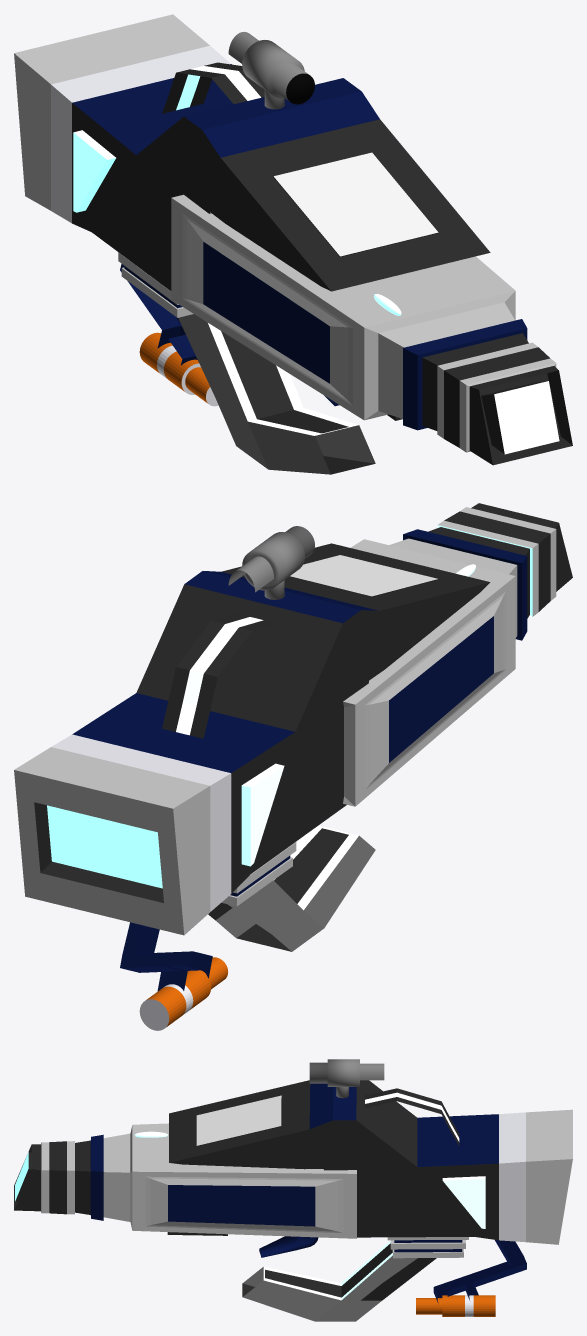
Rendered from gun.gltf.
3 renders of one model, top to bottom at view 1: azimuth 30°, elevation 25°; view 2: azimuth 150°, elevation 25°; view 3: azimuth 270°, elevation 25°, orthographic. The views are drawn at different scales.
Parts seen in each view (by area): view 1: chasis, nozzle, handle, lens, handle 2, bullet, mech arm; view 2: chasis, nozzle, handle, handle 2, lens, mech arm, bullet; view 3: chasis, nozzle, handle, lens, mech arm, bullet, handle 2, trigger.
Boxes of the visible parts, x1,y1,x2,y2 form: chasis: (14,14,490,317); nozzle: (171,194,572,465); handle: (178,314,375,474); lens: (228,31,314,109); handle 2: (162,62,264,113); bullet: (139,332,218,406); mech arm: (120,264,197,365); chasis: (14,543,490,935); nozzle: (343,503,572,806); handle: (208,825,375,951); handle 2: (162,613,276,738); lens: (228,526,314,599); mech arm: (120,922,212,991); bullet: (139,957,227,1030); chasis: (169,1080,572,1258); nozzle: (14,1123,356,1238); handle: (242,1240,436,1321); lens: (309,1059,384,1098); mech arm: (433,1240,526,1303); bullet: (416,1295,495,1316); handle 2: (365,1088,459,1146); trigger: (259,1236,318,1257).
Size of the model in its own units: 0.8171 by 1.69 by 3.35.
